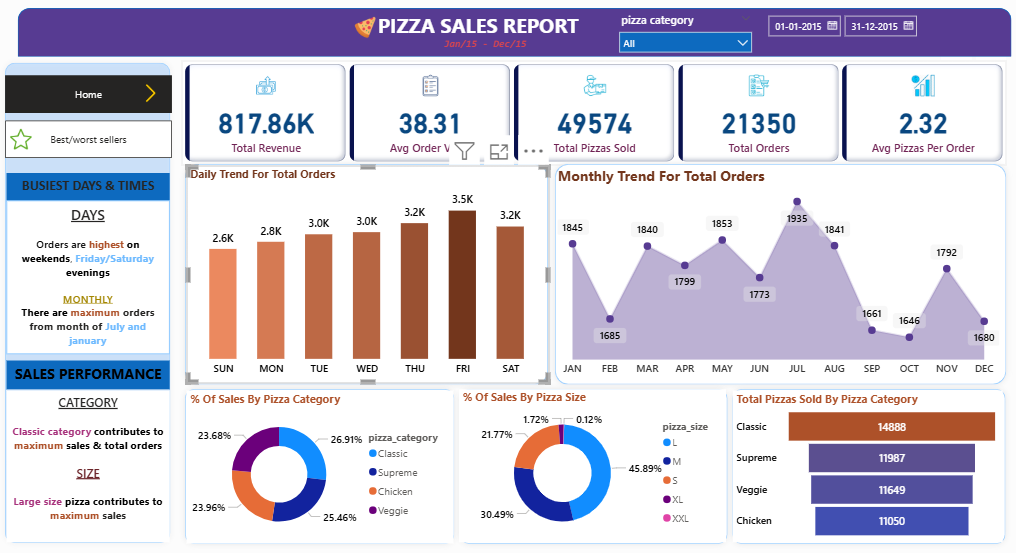

What the dashboard file says about the page in this screenshot:
{"tool":"powerbi","page":{"name":"Home","canvas":[1500,820],"ordinal":0},"visuals":[{"type":"shape","box":[0,78.8,236.2,656.2],"z":0},{"type":"cardVisual","fields":{"Data":["pizza_sales.Total Revenue","pizza_sales.Avg Order Value","pizza_sales.Total Pizzas Sold","pizza_sales.Total Orders","pizza_sales.Avg Pizzas Per Order"]},"box":[242.5,82.5,1100,140],"z":1000},{"type":"shape","box":[25,13.8,1325,65],"z":2000},{"type":"textbox","box":[498.8,13.8,281.2,45],"z":3000},{"type":"textbox","box":[587.5,46.2,123.8,36.2],"z":4000},{"type":"image","box":[467.5,20,40,38.8],"z":5000},{"type":"shape","box":[240,212.5,500,310],"z":6000},{"type":"columnChart","title":"Daily Trend For Total Orders","fields":{"Category":["pizza_sales.Order Day"],"Y":["pizza_sales.Total Orders"]},"box":[250,222.5,482.5,290],"z":7000},{"type":"shape","box":[732.5,212.5,617.5,310],"z":8000},{"type":"areaChart","title":"Monthly Trend For Total Orders","fields":{"Y":["pizza_sales.Total Orders"],"Category":["pizza_sales.Order Month"]},"box":[740,222.5,598.8,290],"z":9000},{"type":"shape","box":[240,512.5,375,222.5],"z":10000},{"type":"shape","box":[606.2,512.5,372.5,222.5],"z":11000},{"type":"shape","box":[970,512.5,380,222.5],"z":12000},{"type":"donutChart","title":"% Of Sales By Pizza Category","fields":{"Category":["pizza_sales.pizza_category"],"Y":["pizza_sales.Total Revenue"]},"box":[250,522.5,356.2,203.8],"z":13000},{"type":"donutChart","title":"% Of Sales By Pizza Size","fields":{"Category":["pizza_sales.pizza_size"],"Y":["pizza_sales.Total Revenue"]},"box":[613.8,521.2,356.2,203.8],"z":14000},{"type":"funnel","title":"Total Pizzas Sold By Pizza Category","fields":{"Category":["pizza_sales.pizza_category"],"Y":["pizza_sales.Total Pizzas Sold"]},"box":[978.8,522.5,360,202.5],"z":15000},{"type":"textbox","box":[10,232.5,217.5,37.5],"z":16000},{"type":"textbox","box":[10,270,217.5,205],"z":17000},{"type":"textbox","box":[10,483.8,217.5,38.8],"z":18000},{"type":"textbox","box":[10,522.5,217.5,202.5],"z":19000},{"type":"slicer","fields":{"Values":["pizza_sales.pizza_category"]},"box":[816.2,13.8,197.5,65],"z":20000},{"type":"slicer","fields":{"Values":["pizza_sales.order_date"]},"box":[1013.8,13.8,262.5,65],"z":21000},{"type":"pageNavigator","box":[7.5,102.5,222.5,50],"z":22000},{"type":"pageNavigator","box":[7.5,162.5,222.5,50],"z":23000},{"type":"image","box":[178.8,110,48.8,33.8],"z":24000},{"type":"image","box":[10,166.2,38.8,42.5],"z":25000}]}

Visuals, with their boxes in screenshot pixels (x1, y1, x2, y2), scaled from the page's 1500x820 canvas onto the 1016x553 screenshot:
shape: 0:53:160:496
cardVisual - pizza_sales.Total Revenue x pizza_sales.Avg Order Value: 164:56:909:150
shape: 17:9:914:53
textbox: 338:9:528:40
textbox: 398:31:482:56
image: 317:13:344:40
shape: 163:143:501:352
"Daily Trend For Total Orders" columnChart: 169:150:496:346
shape: 496:143:914:352
"Monthly Trend For Total Orders" areaChart: 501:150:907:346
shape: 163:346:417:496
shape: 411:346:663:496
shape: 657:346:914:496
"% Of Sales By Pizza Category" donutChart: 169:352:411:490
"% Of Sales By Pizza Size" donutChart: 416:351:657:489
"Total Pizzas Sold By Pizza Category" funnel: 663:352:907:489
textbox: 7:157:154:182
textbox: 7:182:154:320
textbox: 7:326:154:352
textbox: 7:352:154:489
slicer - pizza_sales.pizza_category: 553:9:687:53
slicer - pizza_sales.order_date: 687:9:864:53
pageNavigator: 5:69:156:103
pageNavigator: 5:110:156:143
image: 121:74:154:97
image: 7:112:33:141
